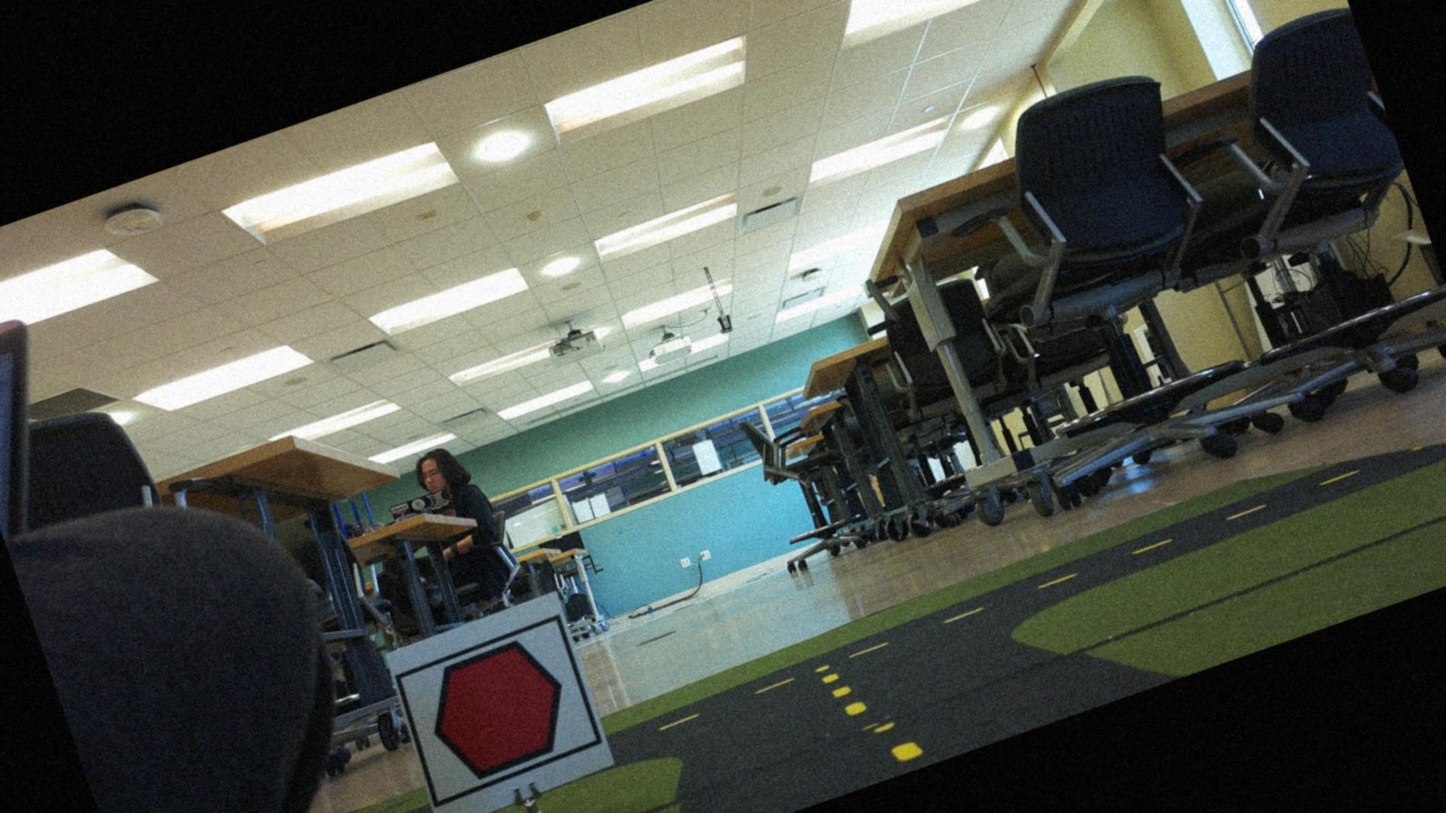stop: (401, 621, 595, 796)
yellowline: (817, 644, 924, 783)
